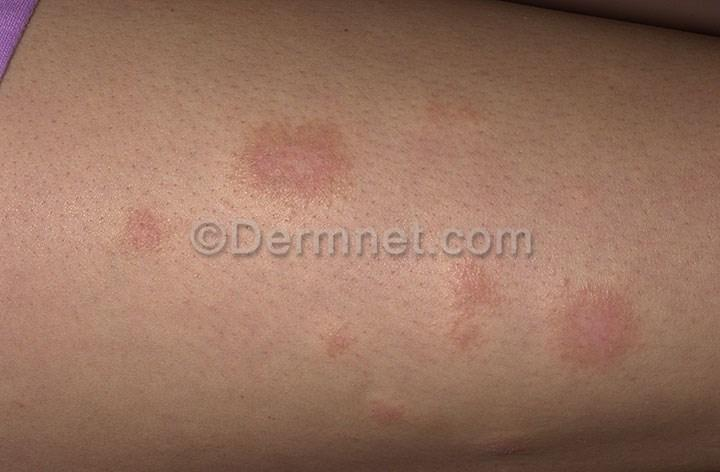Eczema: (222, 113, 409, 205), (552, 273, 670, 377), (445, 261, 515, 359), (104, 189, 185, 272), (421, 82, 511, 155), (293, 320, 367, 364), (473, 432, 561, 461), (363, 396, 421, 438)
